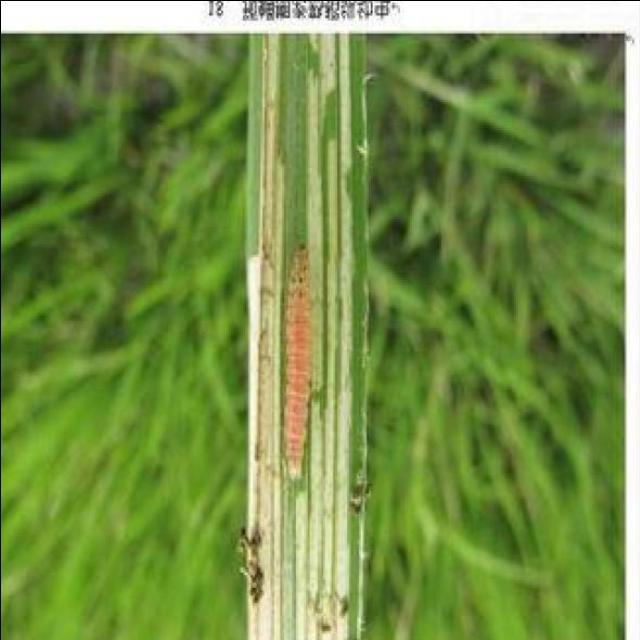leaf folder: (284, 247, 310, 473)
